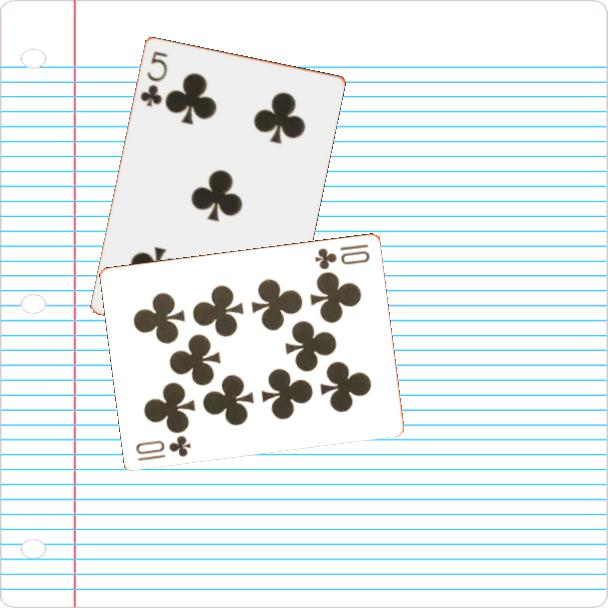c05: (136, 47, 170, 109)
c10: (311, 240, 373, 272), (133, 432, 194, 464)
